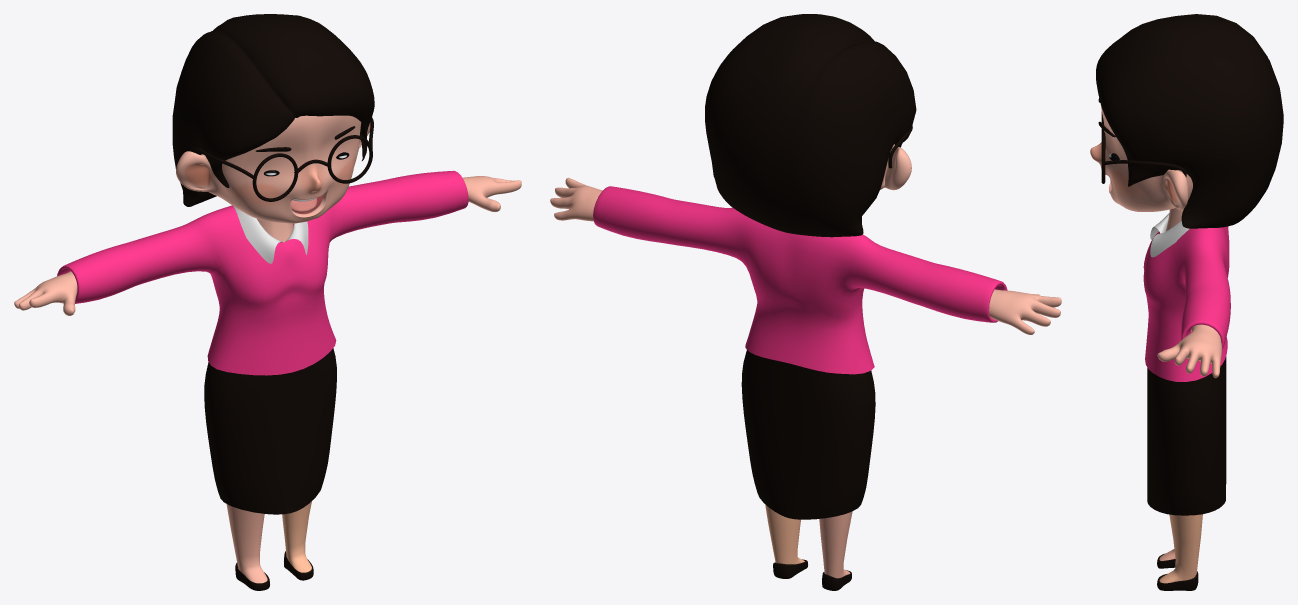
Rendered from FemaleTeacher.fbx.
3 renders of one model, left to right at view 1: azimuth 30°, elevation 25°; view 2: azimuth 150°, elevation 25°; view 3: azimuth 270°, elevation 25°, orthographic.
Parts seen in each view (by area): view 1: teacher; view 2: teacher; view 3: teacher.
Boxes of the visible parts, x1,y1,x2,y2 form: teacher: (14,14,521,590); teacher: (550,14,1061,590); teacher: (1090,14,1283,590).
Bounding box in the file's own units: 180 × 190 × 60.18.
